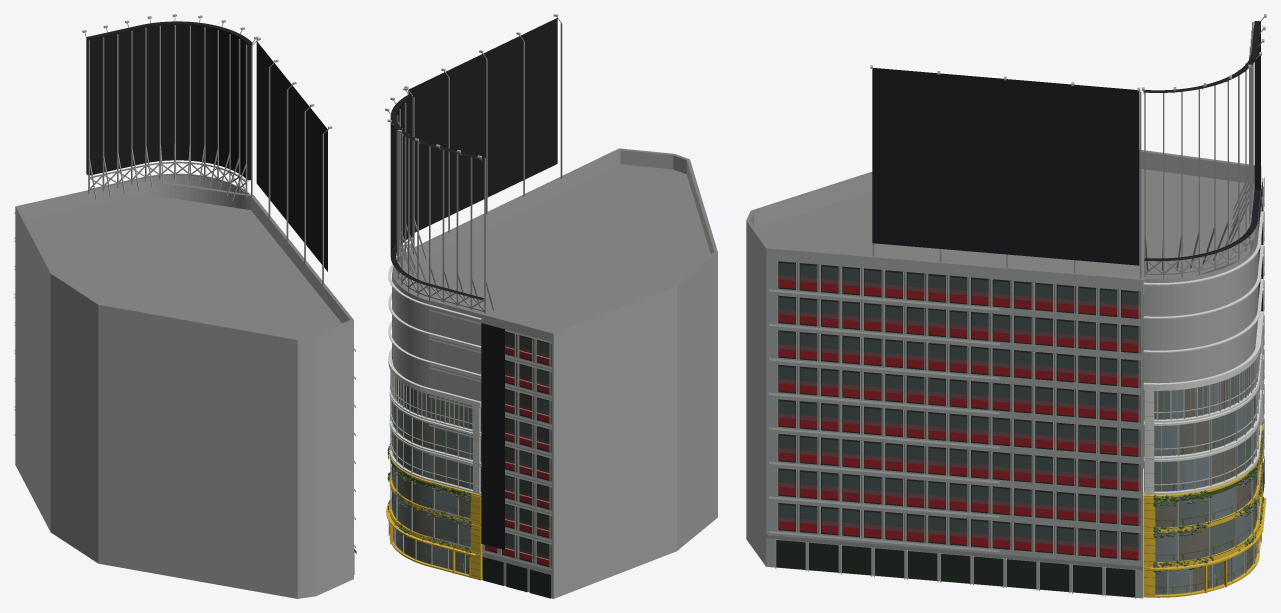
The model's file is ekimae.glb.
The picture shows the model from 3 angles, left to right: view 1: azimuth 30°, elevation 25°; view 2: azimuth 150°, elevation 25°; view 3: azimuth 270°, elevation 25°; orthographic projection. The views are drawn at different scales.
Visible parts, largest first — view 1: ek_wall, ek_screen_back, ek_roof, ek_steel; view 2: ek_wall, ek_roof, ek_screen_back, ek_red_frame, ek_steel, ek_silver, ek_reveal, ek_glass, ek_glass_blue, ek_glass_warm, ek_shop_glass, ek_leaf (+1 smaller); view 3: ek_wall, ek_screen_back, ek_reveal, ek_red_frame, ek_glass_blue, ek_silver, ek_roof, ek_shop_glass, ek_steel, ek_glass, ek_glass_warm, ek_leaf (+1 smaller).
Boxes of the visible parts, x1,y1,x2,y2 form: ek_wall: [15, 175, 353, 598]; ek_screen_back: [86, 21, 327, 271]; ek_roof: [15, 178, 353, 339]; ek_steel: [84, 17, 356, 553]; ek_wall: [393, 150, 717, 598]; ek_roof: [409, 148, 717, 333]; ek_screen_back: [390, 18, 557, 549]; ek_red_frame: [386, 264, 552, 580]; ek_steel: [388, 17, 562, 488]; ek_silver: [385, 14, 558, 574]; ek_reveal: [392, 267, 551, 567]; ek_glass: [392, 332, 549, 574]; ek_glass_blue: [392, 341, 549, 568]; ek_glass_warm: [392, 336, 549, 572]; ek_shop_glass: [482, 557, 550, 598]; ek_leaf: [387, 444, 471, 556]; ek_wall: [746, 151, 1261, 598]; ek_screen_back: [872, 21, 1262, 424]; ek_reveal: [778, 178, 1262, 560]; ek_red_frame: [769, 177, 1266, 597]; ek_glass_blue: [779, 183, 1262, 594]; ek_silver: [775, 14, 1266, 598]; ek_roof: [746, 150, 1261, 294]; ek_shop_glass: [776, 456, 1264, 597]; ek_steel: [765, 17, 1263, 569]; ek_glass: [1154, 204, 1260, 594]; ek_glass_warm: [1154, 193, 1261, 591]; ek_leaf: [1153, 430, 1264, 572].
Bounding box in the file's own units: 30.11 × 50.4 × 46.46.
